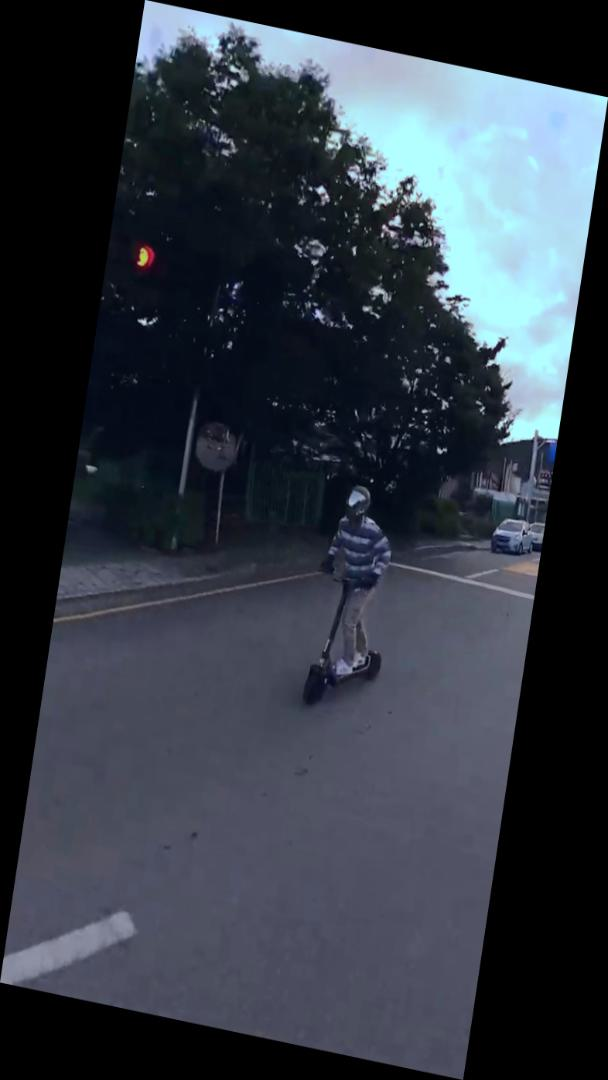helmet: (295, 477, 408, 722)
